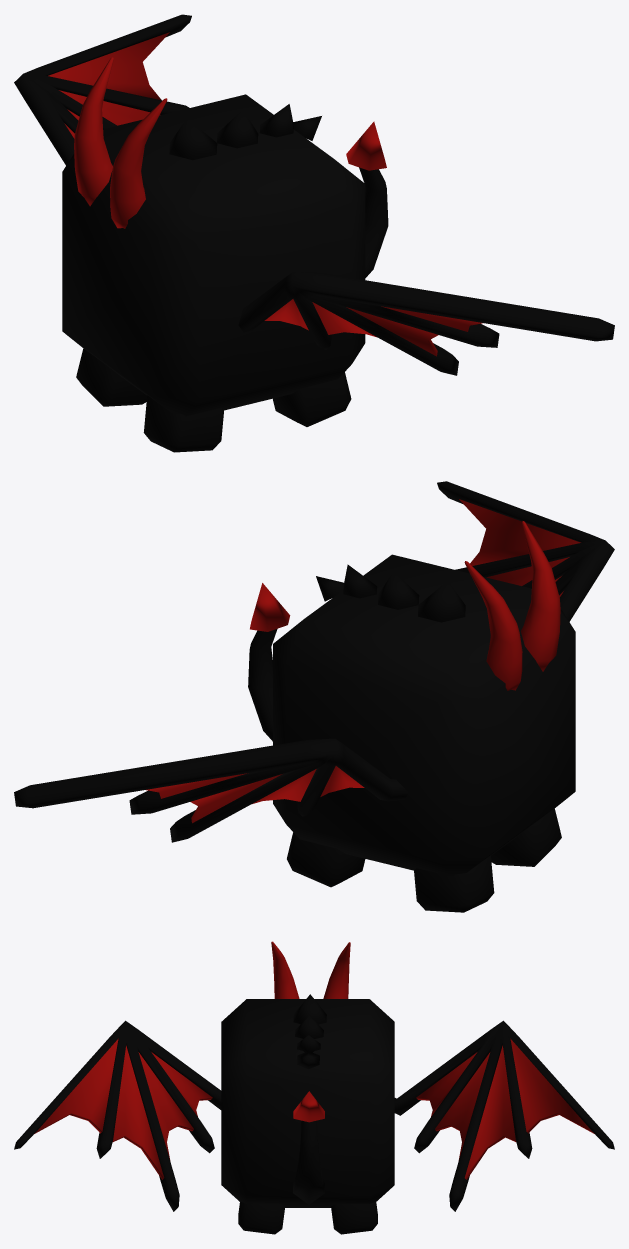
Rendered from DarkDragon.obj.
3 views of the same model, one above another, from view 1: azimuth 30°, elevation 25°; view 2: azimuth 150°, elevation 25°; view 3: azimuth 270°, elevation 25° (orthographic). The views are drawn at different scales.
Parts seen in each view (by area): view 1: Meshes100kcube1, Meshpart3, Meshes100kcube0031, Meshpart4, Meshpart5, Meshpart6, Meshpart2, Meshpart1; view 2: Meshes100kcube1, Meshpart3, Meshes100kcube0031, Meshpart4, Meshpart5, Meshpart6, Meshpart2, Meshpart1; view 3: Meshes100kcube1, Meshpart3, Meshpart4, Meshes100kcube0031, Meshpart5, Meshpart2, Meshpart6, Meshpart1.
Boxes of the visible parts, box(x1,y1,x2,y2) form: Meshes100kcube1: box(62, 94, 365, 416); Meshpart3: box(14, 14, 614, 375); Meshes100kcube0031: box(76, 348, 351, 452); Meshpart4: box(48, 32, 483, 356); Meshpart5: box(74, 57, 167, 228); Meshpart6: box(169, 104, 321, 160); Meshpart2: box(359, 167, 388, 277); Meshpart1: box(346, 121, 386, 170); Meshes100kcube1: box(273, 554, 575, 876); Meshpart3: box(14, 481, 614, 842); Meshes100kcube0031: box(287, 808, 561, 912); Meshpart4: box(146, 499, 580, 823); Meshpart5: box(464, 521, 560, 690); Meshpart6: box(316, 564, 465, 622); Meshpart2: box(248, 629, 277, 741); Meshpart1: box(250, 583, 290, 631); Meshes100kcube1: box(221, 999, 394, 1207); Meshpart3: box(14, 1020, 614, 1211); Meshpart4: box(34, 1038, 594, 1179); Meshes100kcube0031: box(238, 1202, 377, 1234); Meshpart5: box(271, 941, 350, 998); Meshpart2: box(293, 1120, 324, 1204); Meshpart6: box(293, 994, 326, 1069); Meshpart1: box(293, 1091, 324, 1122).
Bounding box in the file's own units: 2.59 × 2.77 × 6.19.
